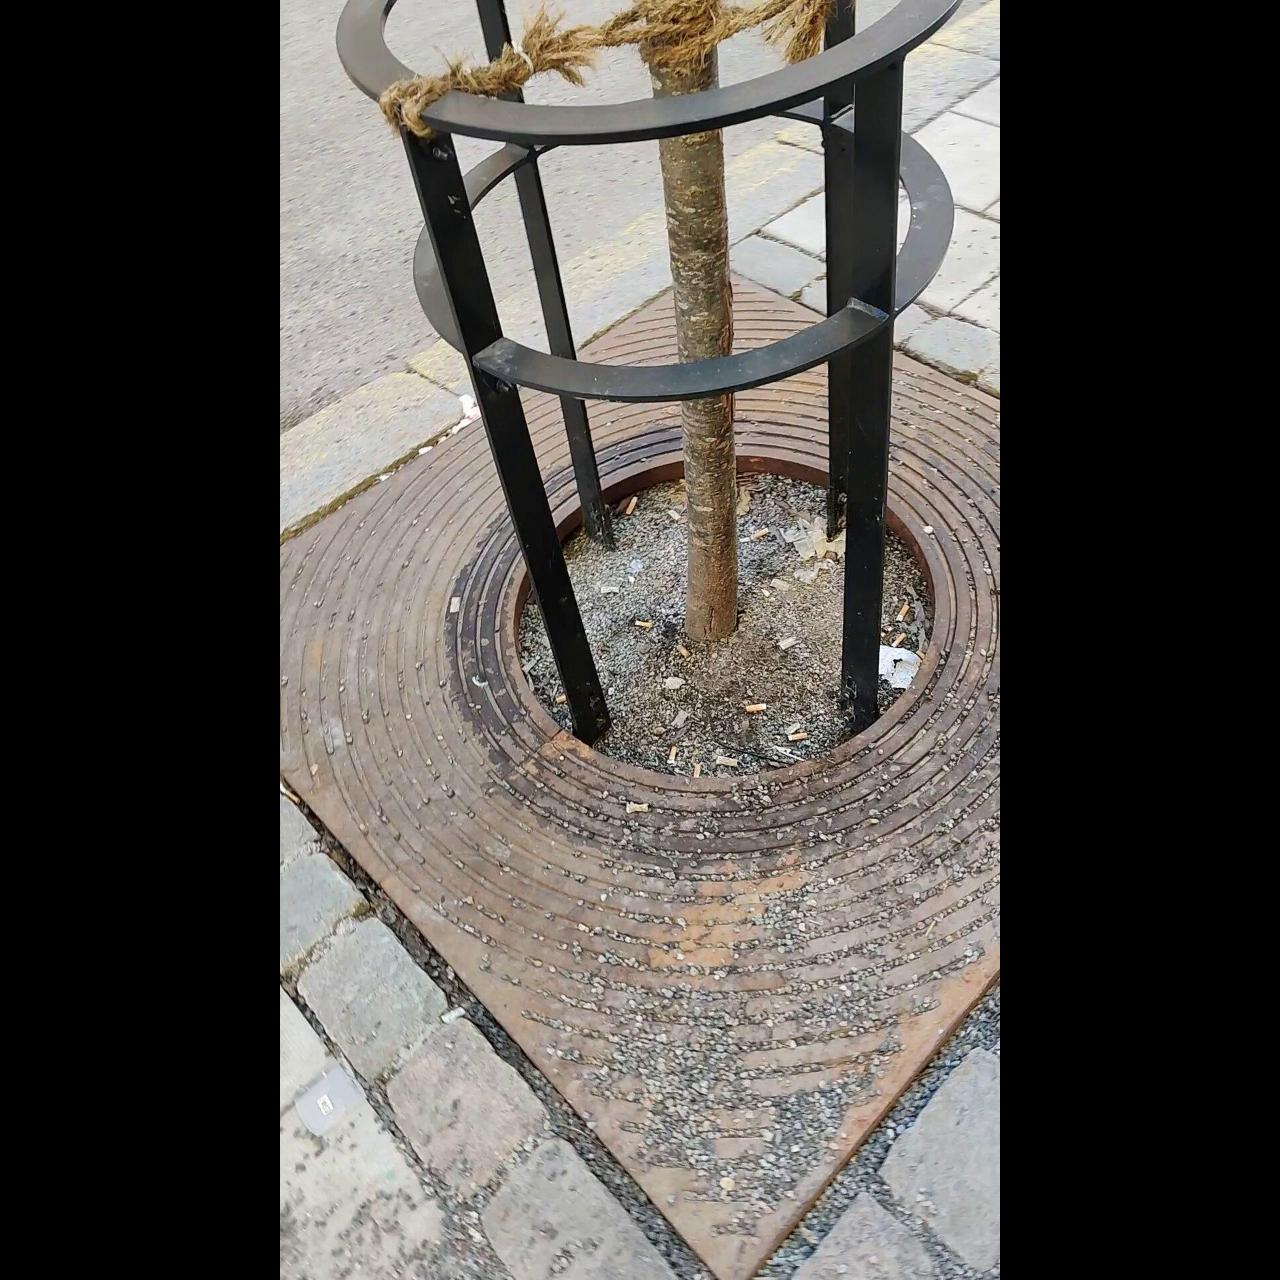cigarettes_butts: (280, 782, 301, 810), (749, 525, 775, 545), (622, 495, 641, 519), (713, 756, 743, 769), (894, 604, 910, 626), (783, 730, 811, 742), (892, 632, 908, 652), (629, 617, 652, 629), (668, 742, 680, 765), (745, 702, 767, 715), (675, 639, 690, 655), (689, 764, 701, 779)
others: (441, 1005, 468, 1035), (776, 634, 801, 654), (625, 803, 653, 819), (447, 592, 463, 620), (598, 583, 622, 595)
